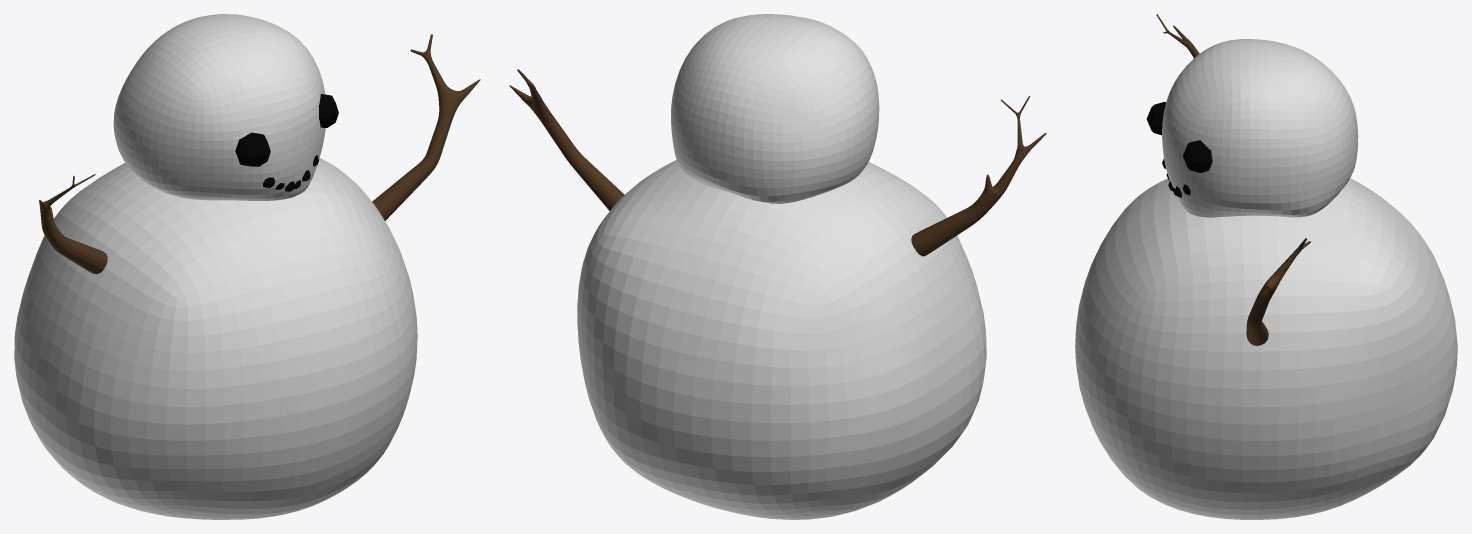
The model's file is snow.fbx.
3 renders of one model, left to right at view 1: azimuth 30°, elevation 25°; view 2: azimuth 150°, elevation 25°; view 3: azimuth 270°, elevation 25°, orthographic. The views are drawn at different scales.
Parts seen in each view (by area): view 1: Cube.001, Cube.002, Plane.001, Plane.002, Cube, Cube.003; view 2: Cube.001, Cube.002, Plane.002, Plane.001; view 3: Cube.001, Cube.002, Plane.001, Cube.003, Cube.
Part boxes in pixels (bbox=[...]): Cube.001: bbox=[14, 158, 417, 519]; Cube.002: bbox=[113, 14, 325, 200]; Plane.001: bbox=[372, 34, 480, 220]; Plane.002: bbox=[39, 174, 107, 274]; Cube: bbox=[235, 132, 270, 166]; Cube.003: bbox=[318, 94, 338, 127]; Cube.001: bbox=[577, 160, 986, 519]; Cube.002: bbox=[671, 14, 879, 203]; Plane.002: bbox=[911, 96, 1046, 256]; Plane.001: bbox=[509, 69, 624, 210]; Cube.001: bbox=[1075, 178, 1457, 519]; Cube.002: bbox=[1162, 39, 1358, 217]; Plane.001: bbox=[1246, 238, 1310, 345]; Cube.003: bbox=[1183, 140, 1212, 172]; Cube: bbox=[1146, 102, 1165, 135].
Bounding box in the file's own units: 543 × 497 × 385.
